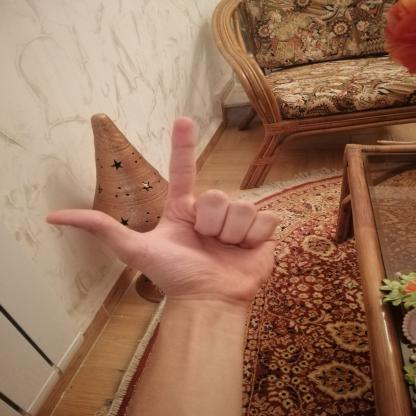LAAM: (26, 107, 303, 317)
